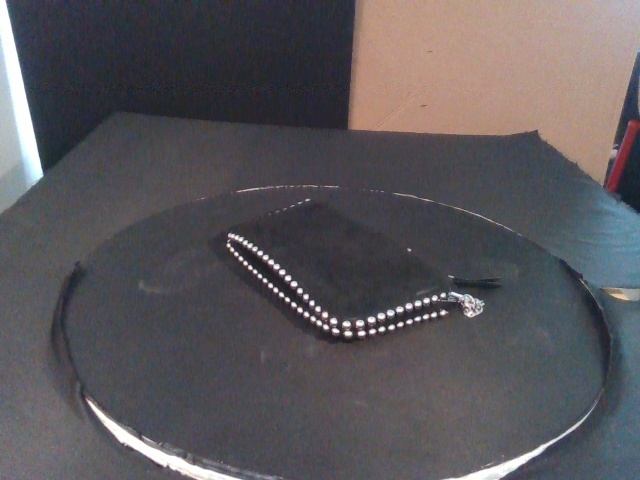bag: (223, 196, 454, 341)
